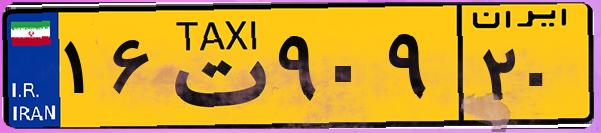0: (330, 28, 385, 110), (525, 38, 570, 115)
1: (57, 26, 110, 100)
2: (475, 38, 525, 113)
6: (110, 28, 158, 98)
9: (270, 28, 330, 110), (385, 28, 445, 110)
ت: (158, 12, 270, 120)
